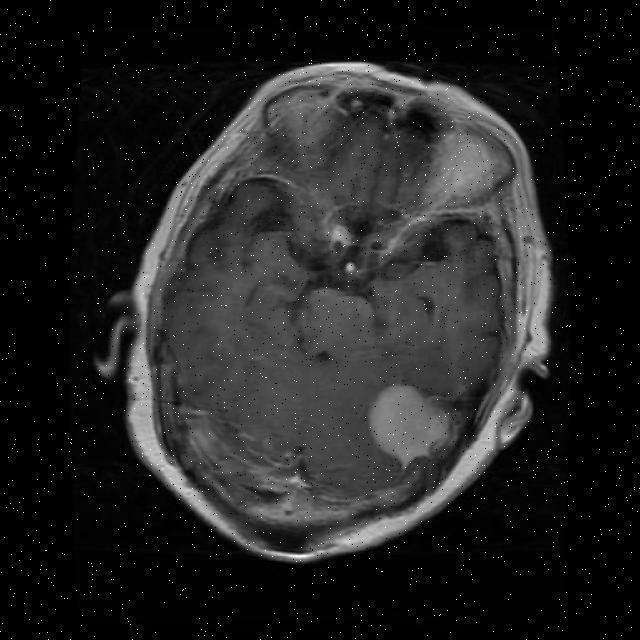Meningioma: (369, 385, 451, 466)
